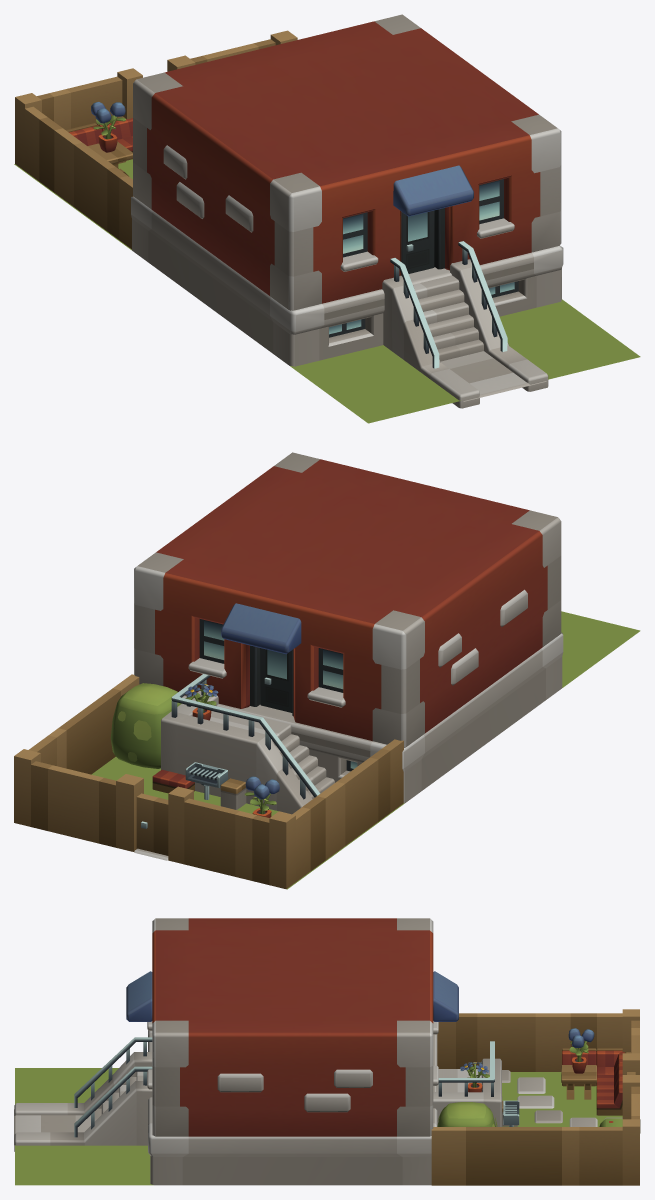
Rendered from appartment_type1_x4_ground_red.fbx.
3 renders of one model, top to bottom at view 1: azimuth 30°, elevation 25°; view 2: azimuth 150°, elevation 25°; view 3: azimuth 270°, elevation 25°, orthographic. The views are drawn at different scales.
Parts seen in each view (by area): view 1: appartment_type1_x4_ground_red, door_front_appartment_type1_x4_ground; view 2: appartment_type1_x4_ground_red, door_back_appartment_type1_x4_ground, door_garden_appartment_type1_x4_ground; view 3: appartment_type1_x4_ground_red.
Boxes of the visible parts, <box> form: appartment_type1_x4_ground_red: <box>14,14,640,423</box>; door_front_appartment_type1_x4_ground: <box>402,210,434,273</box>; appartment_type1_x4_ground_red: <box>14,452,640,889</box>; door_back_appartment_type1_x4_ground: <box>260,648,292,712</box>; door_garden_appartment_type1_x4_ground: <box>136,793,168,855</box>; appartment_type1_x4_ground_red: <box>14,918,640,1185</box>.
Size of the model in its own units: 819 by 501 by 1806.
